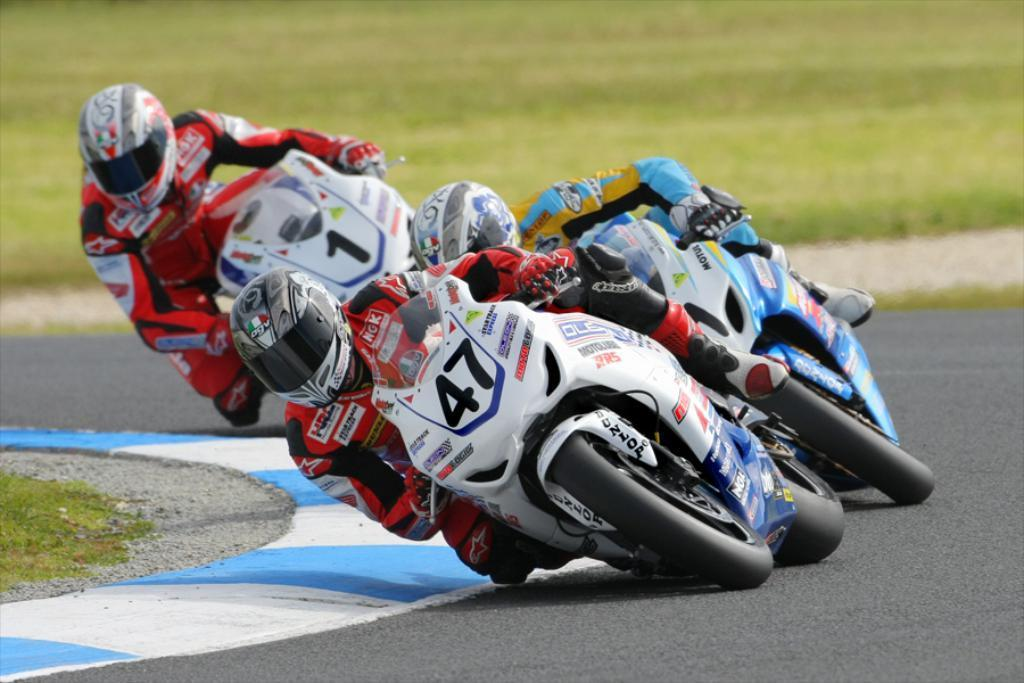helmet: (228, 265, 354, 410), (77, 81, 180, 215), (408, 178, 523, 295)
